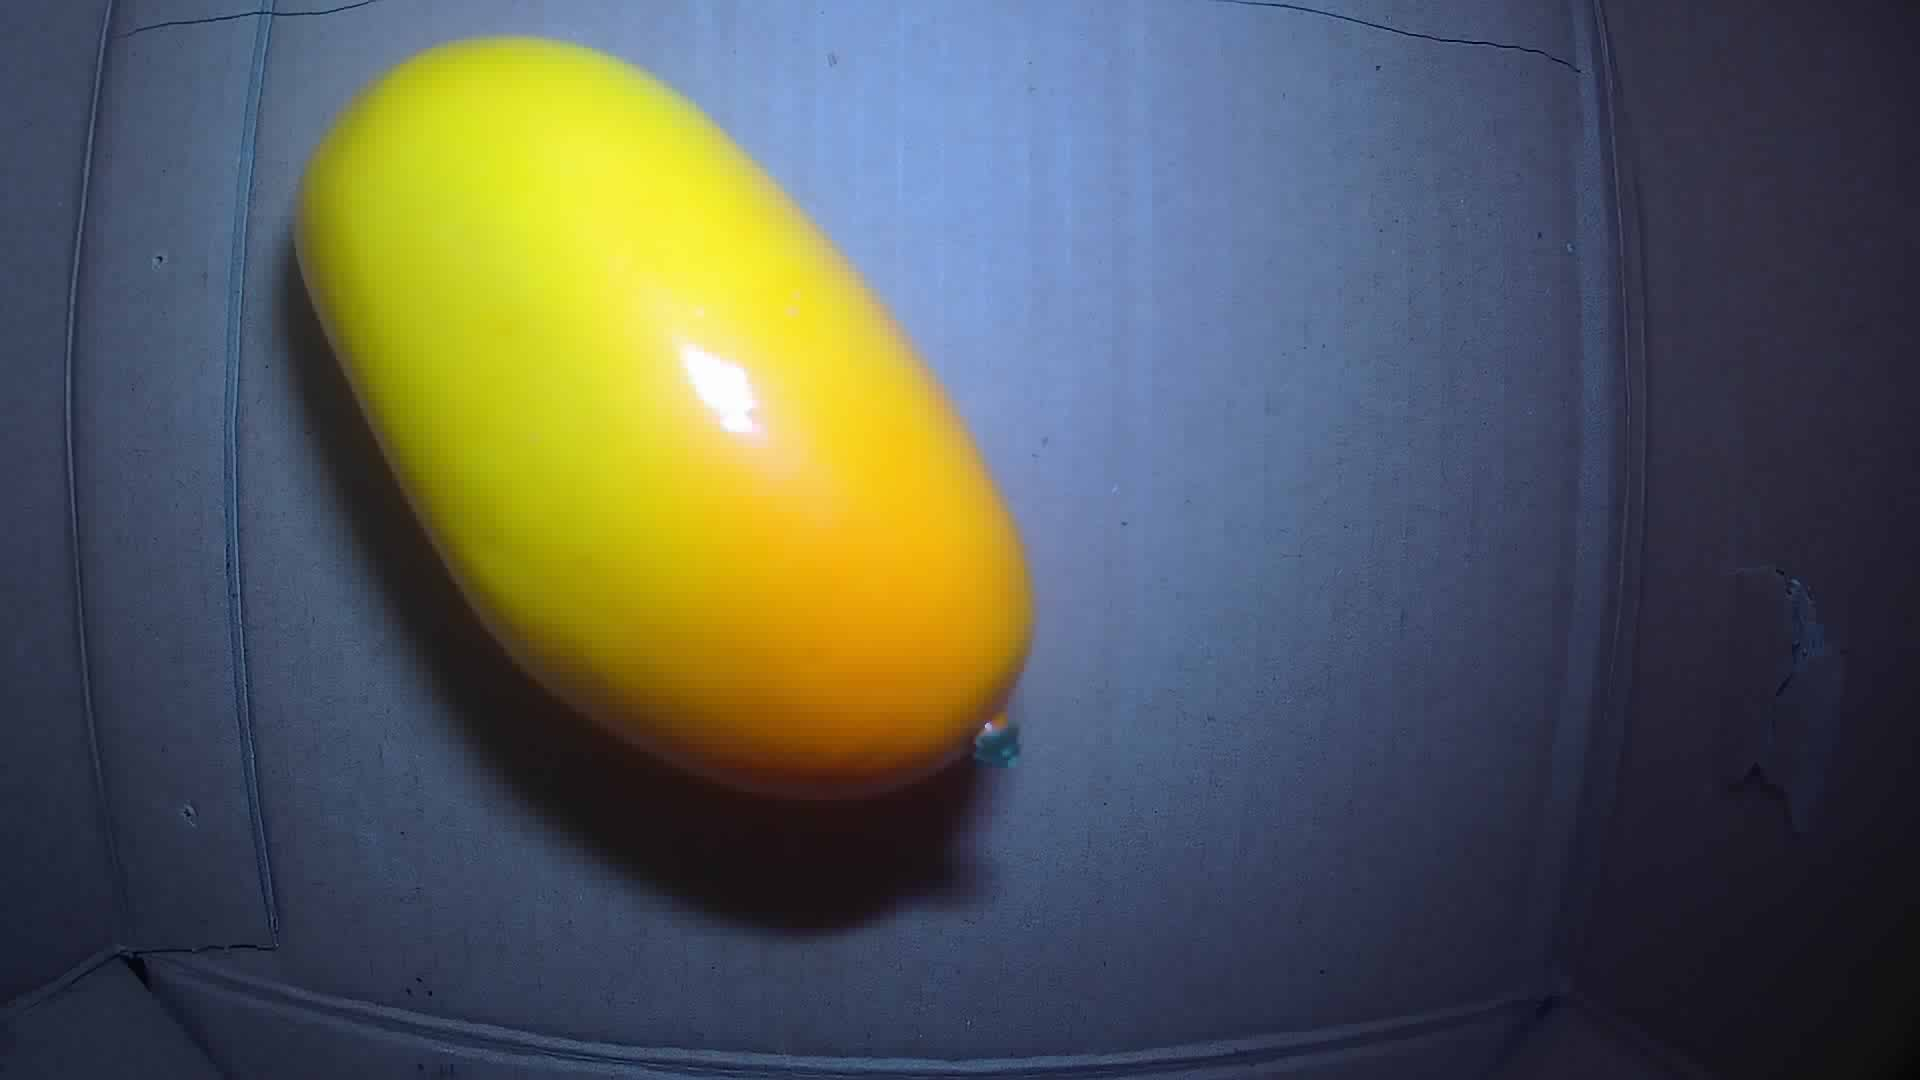mango: (291, 34, 1035, 793)
